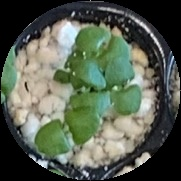Basil: (37, 106, 98, 152), (63, 55, 108, 100), (108, 58, 142, 117), (77, 27, 131, 60)
